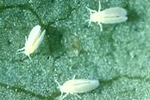whitefly: (85, 3, 128, 29), (55, 76, 101, 100), (17, 25, 44, 59)
